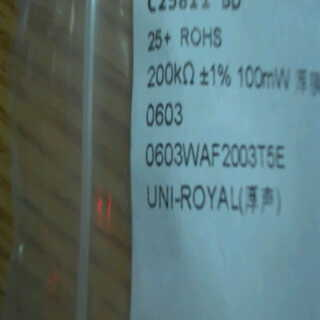200kR: (141, 57, 199, 91)
